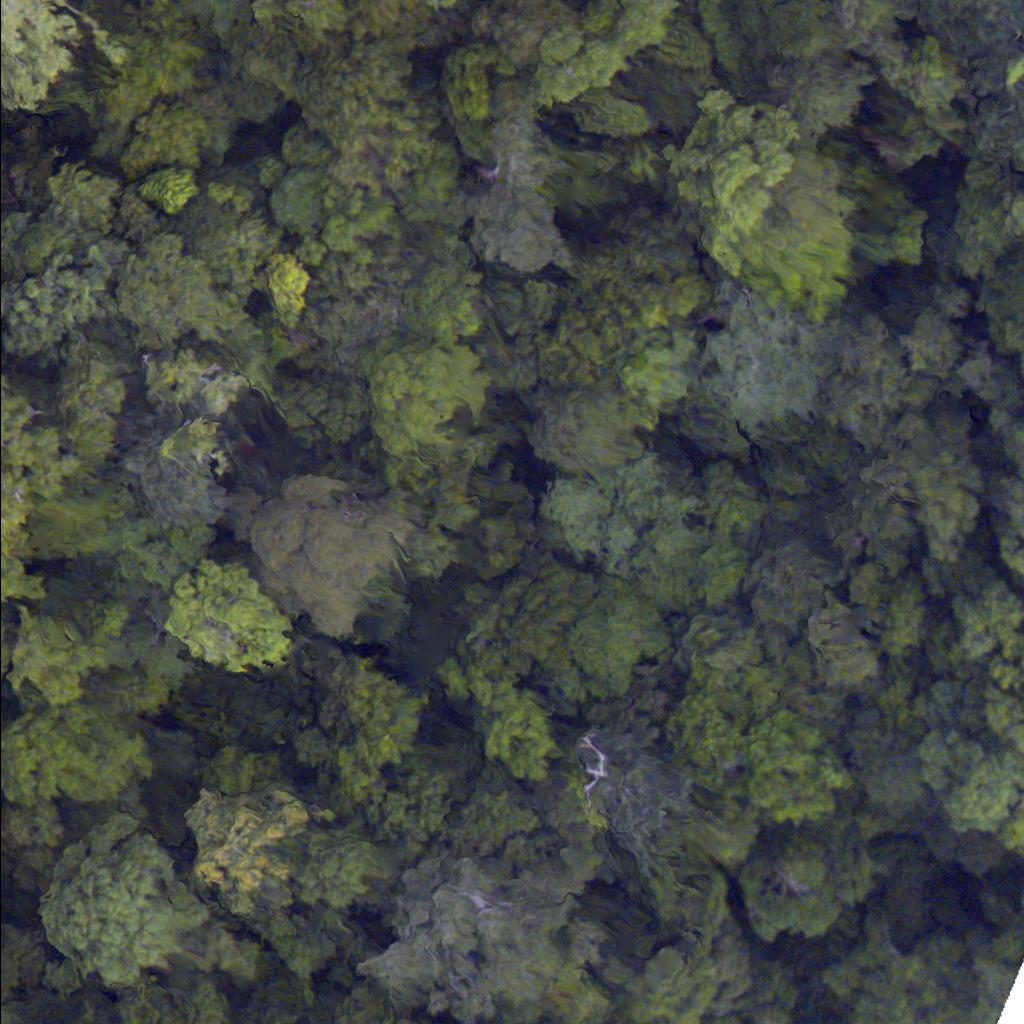crown: (0, 0, 123, 132), (0, 368, 50, 576)
